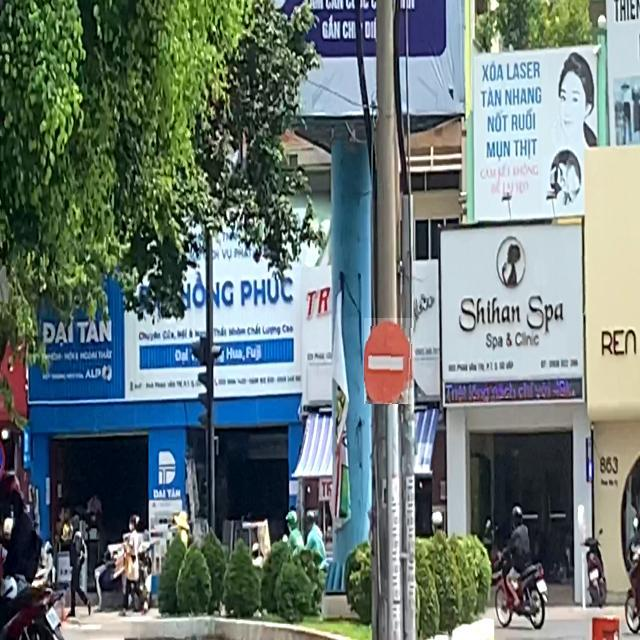P-102: (364, 318, 413, 404)
